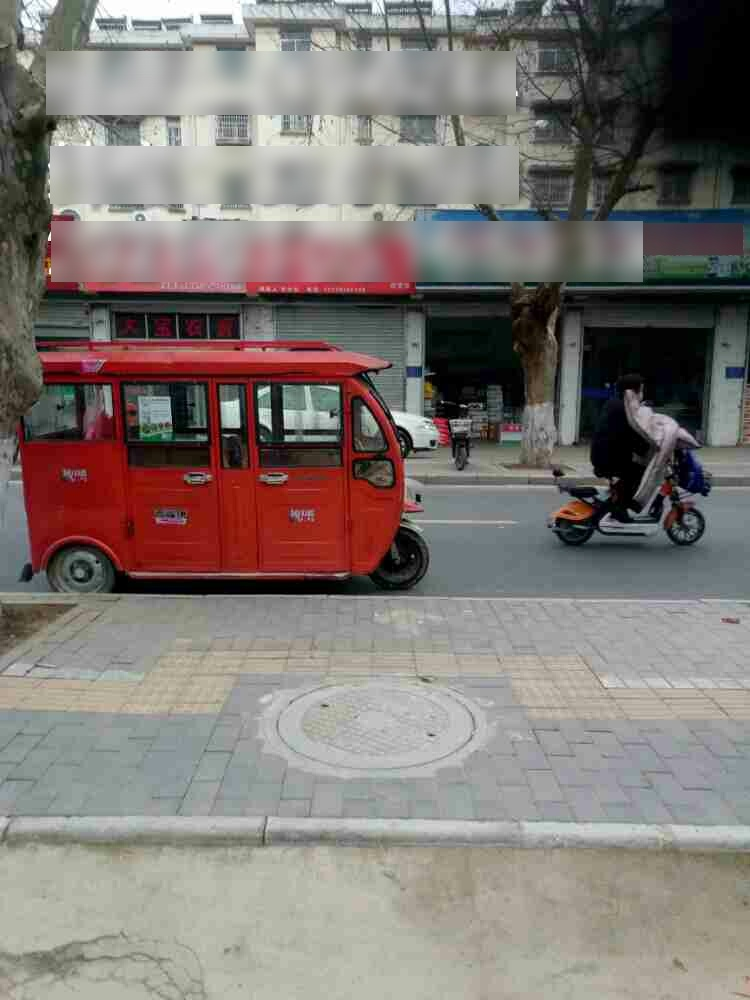good: (264, 680, 487, 774)
